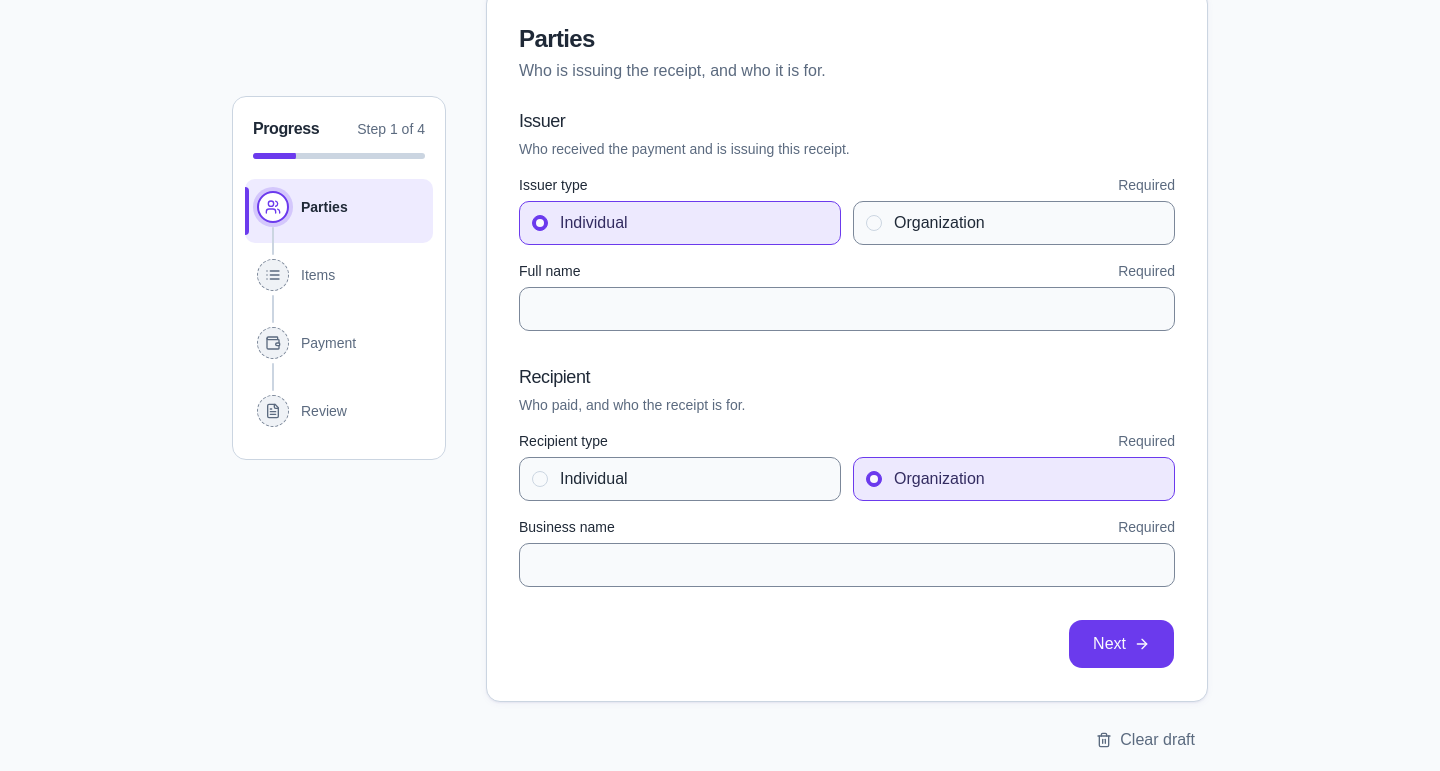
Test: the gate and the visible errors agree (divergence) › parties: both names empty
(page scrolled)
Click the button "Next": (1122, 644) [1068,619,1175,669]
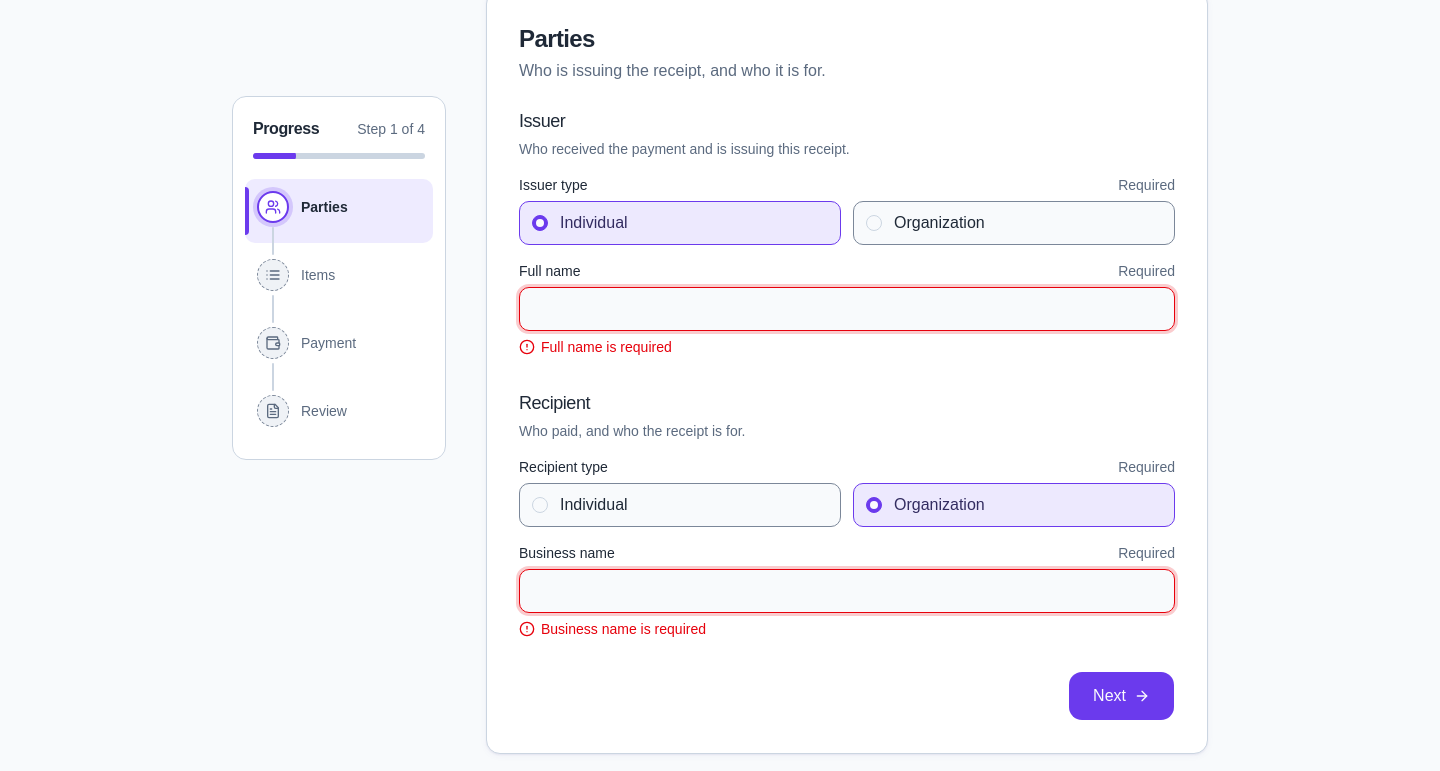
Now the text "Full name is required" is shown, box [541,337,672,357]
